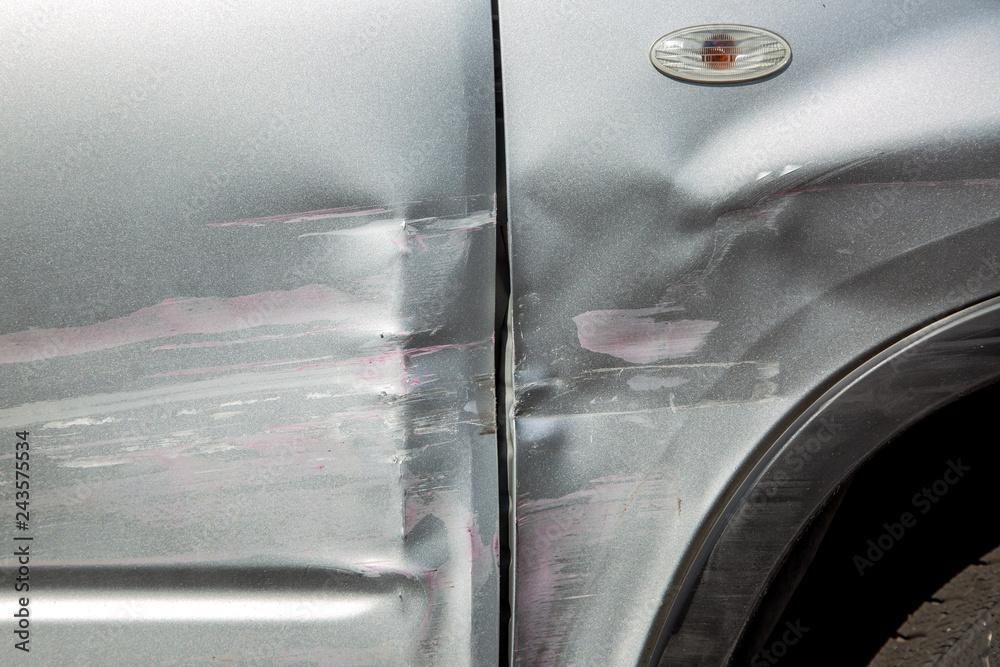dent: (272, 14, 942, 666)
scratch: (0, 130, 906, 666)
